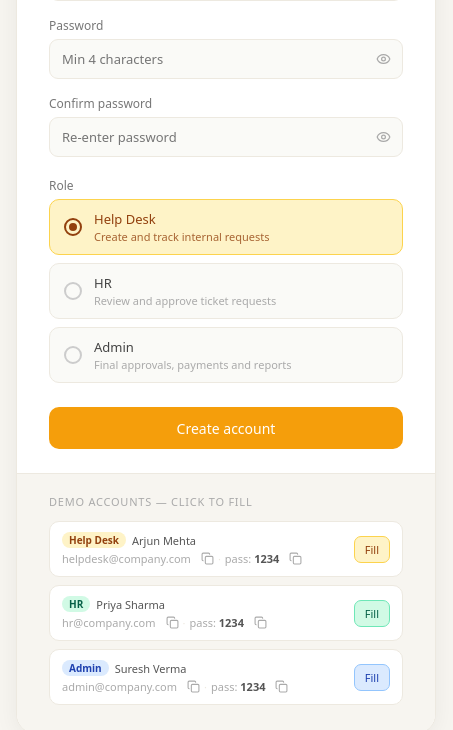
Test case: RegisterPage › demo account fill button fills credentials and changes active role
(page scrolled)
Click fill for HR
Click the button "Fill" in the row of "Priya Sharma" at {"x": 372, "y": 613}, box top-left (354, 600), bottom-right (390, 626)
(page scrolled)
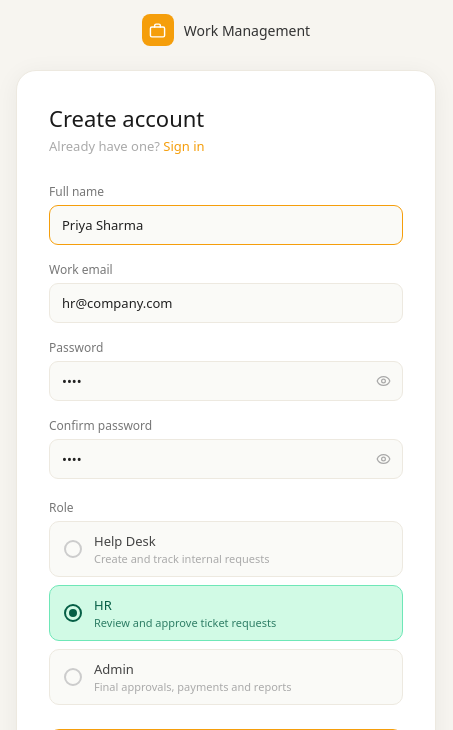
Result: the field labelled "Full name" holds "Priya Sharma" at top-left (49, 205), bottom-right (403, 245)
Result: the field labelled "Work email" holds "hr@company.com" at top-left (49, 283), bottom-right (403, 323)
